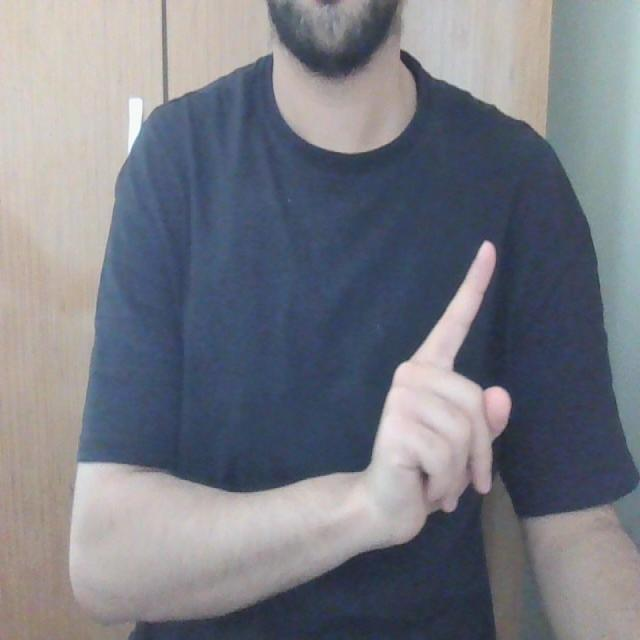Hayir: (370, 190, 526, 592)
